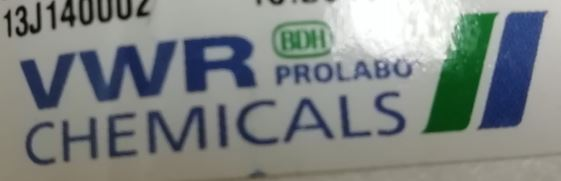VWR: (16, 7, 551, 170)
